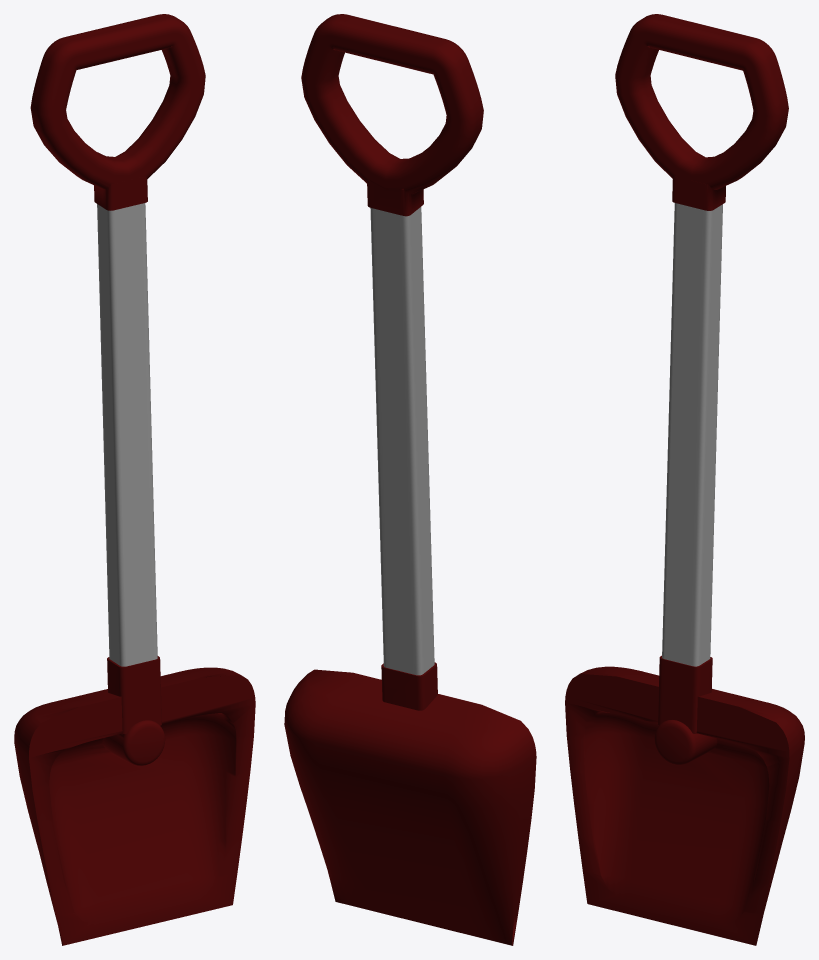
The picture shows the model from 3 angles, left to right: view 1: azimuth 30°, elevation 25°; view 2: azimuth 150°, elevation 25°; view 3: azimuth 330°, elevation 25°; orthographic projection. The views are drawn at different scales.
Visible parts, largest first — view 1: pp0336; view 2: pp0336; view 3: pp0336.
Part boxes in pixels (bbox=[...]): pp0336: bbox=[14, 14, 255, 945]; pp0336: bbox=[284, 14, 536, 945]; pp0336: bbox=[565, 14, 804, 945].
Bounding box in the file's own units: 117 × 434 × 37.77.
